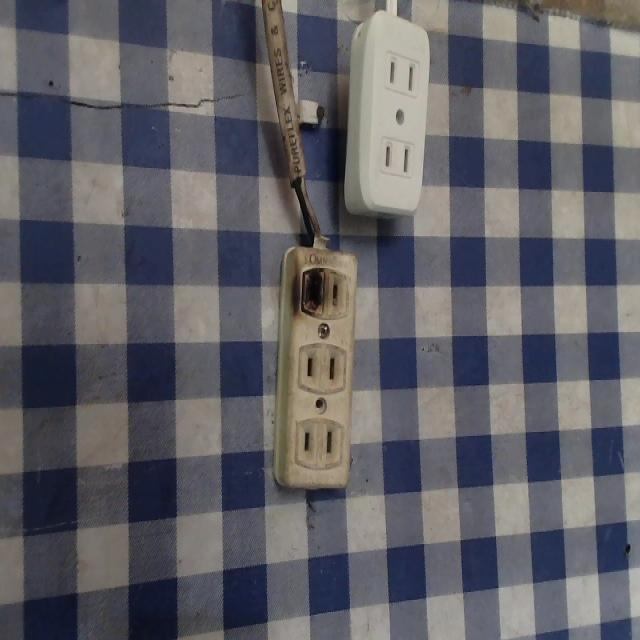-: (299, 260, 328, 321)
